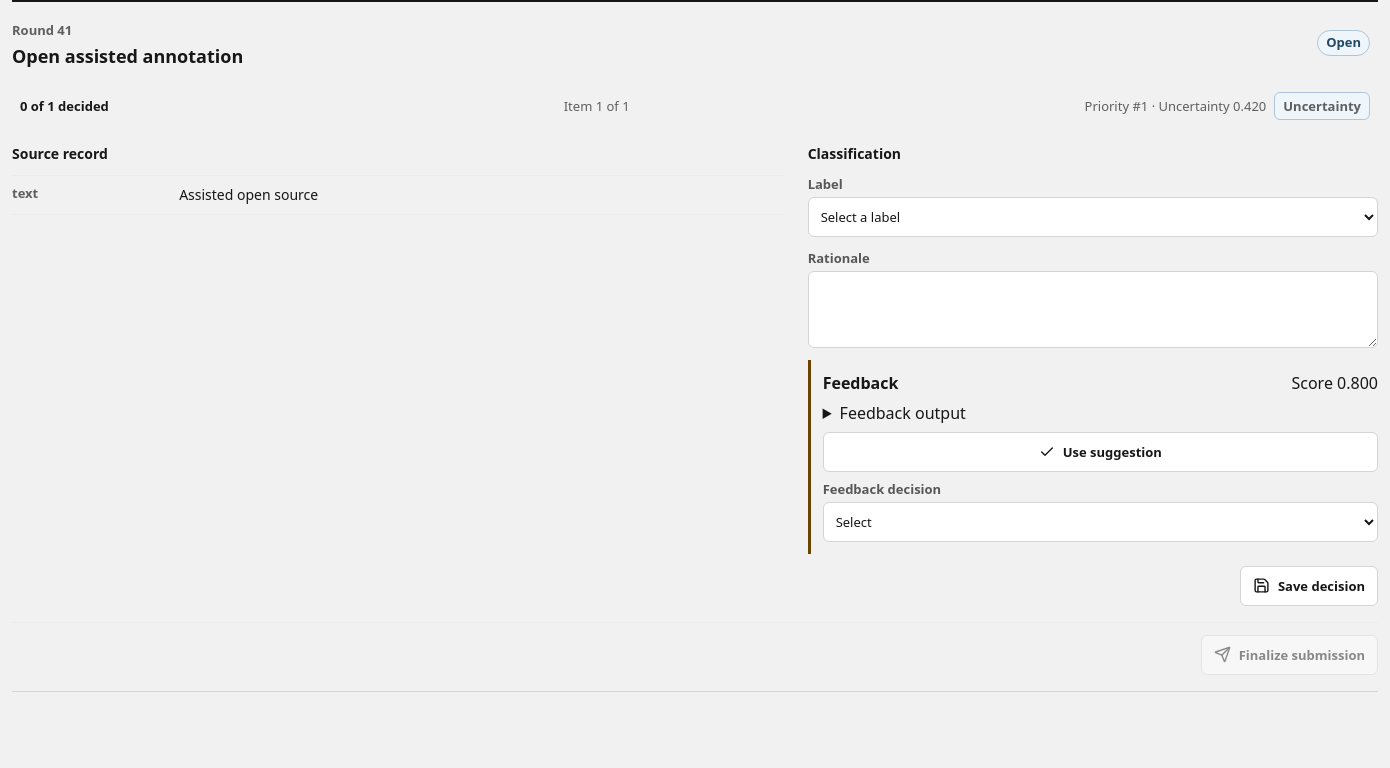
RoundWorkbench › retains feedback disposition checks for open assisted annotation
This screenshot has width=1390, height=768.
Expected: the element named "Revealed feedback" is shown, [808,360,1378,554]
Select "Relevant" in the dropdown labelled "Label" at {"x": 1093, "y": 217}, box [808,197,1378,237]
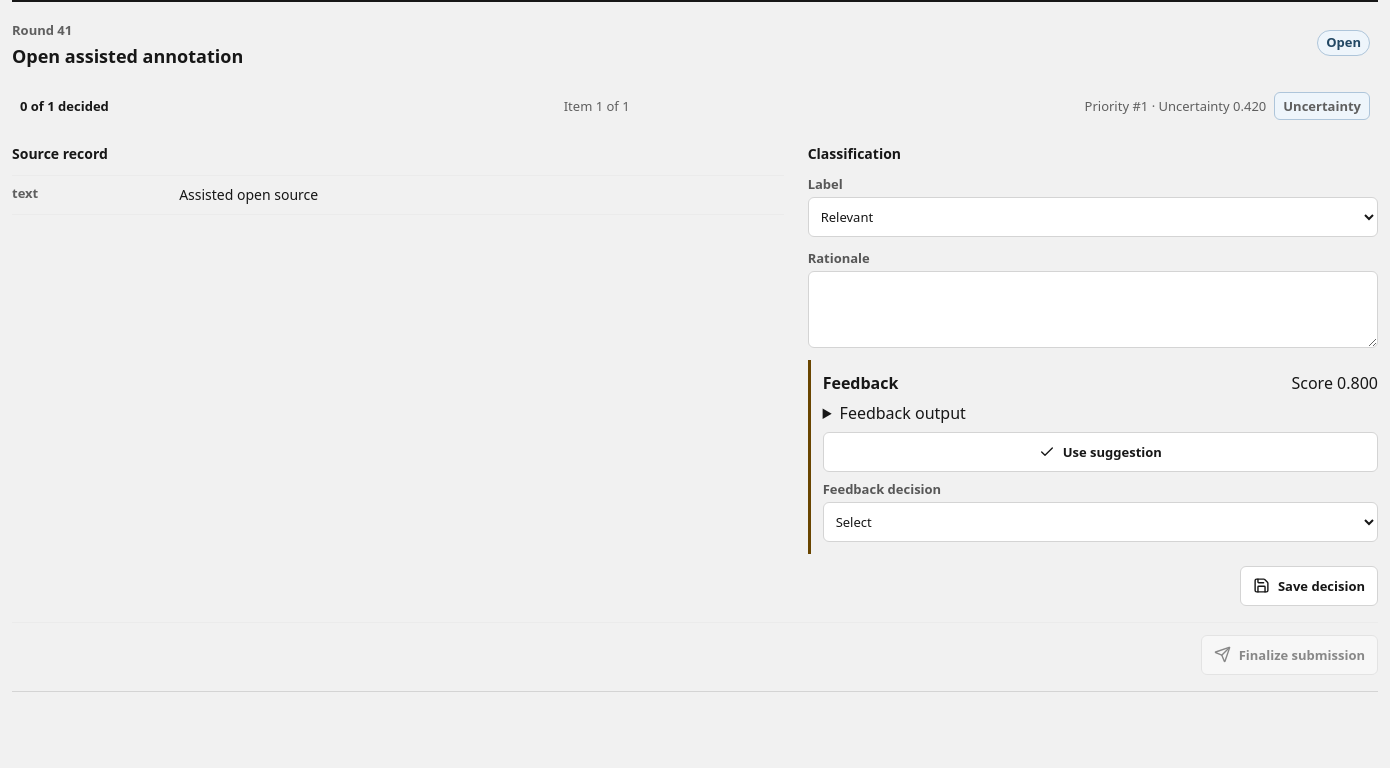
Click the button "Save decision" at {"x": 1309, "y": 586}, box [1240,566,1378,606]
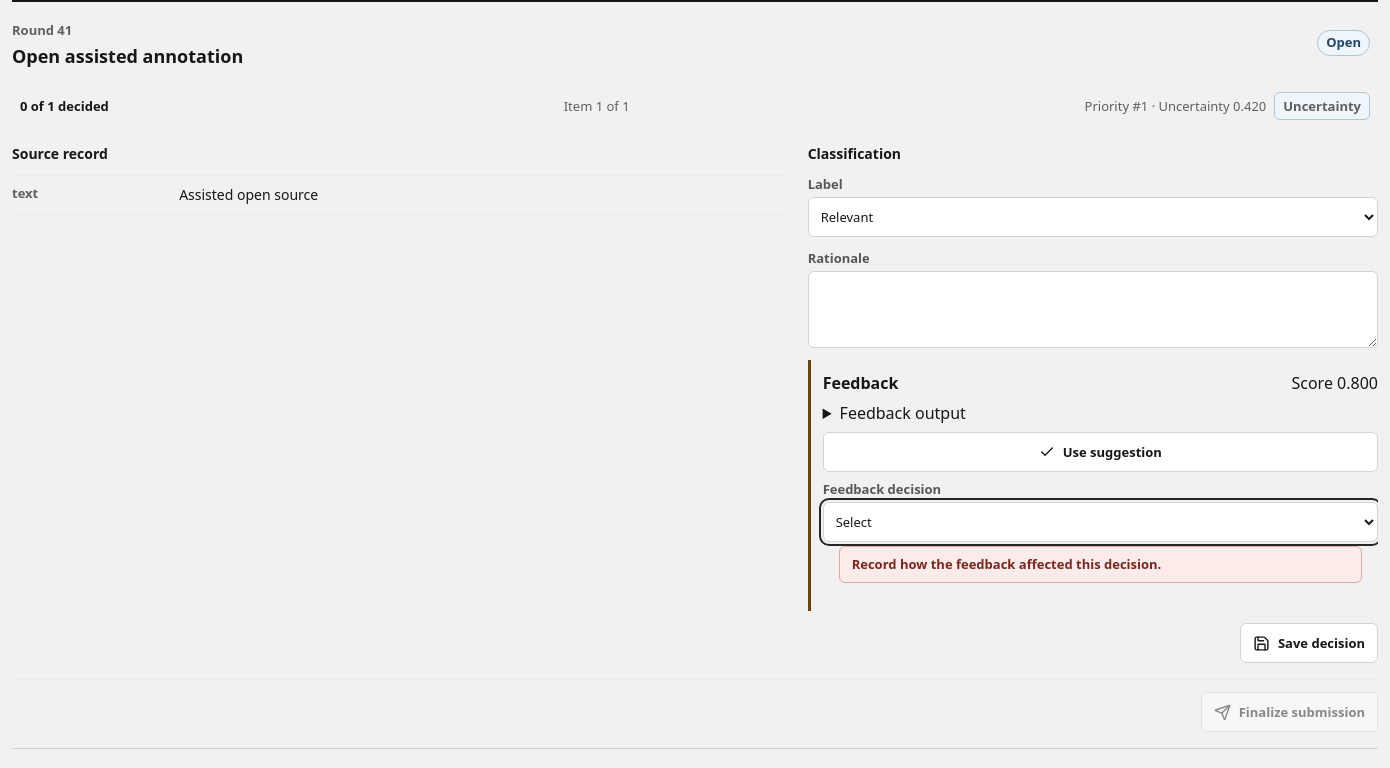
Now the message reads "Record how the feedback affected this decision.", box [852,554,1161,572]
Select "Accepted" in the dropdown labelled "Feedback decision" at {"x": 1100, "y": 522}, box [823,502,1378,542]
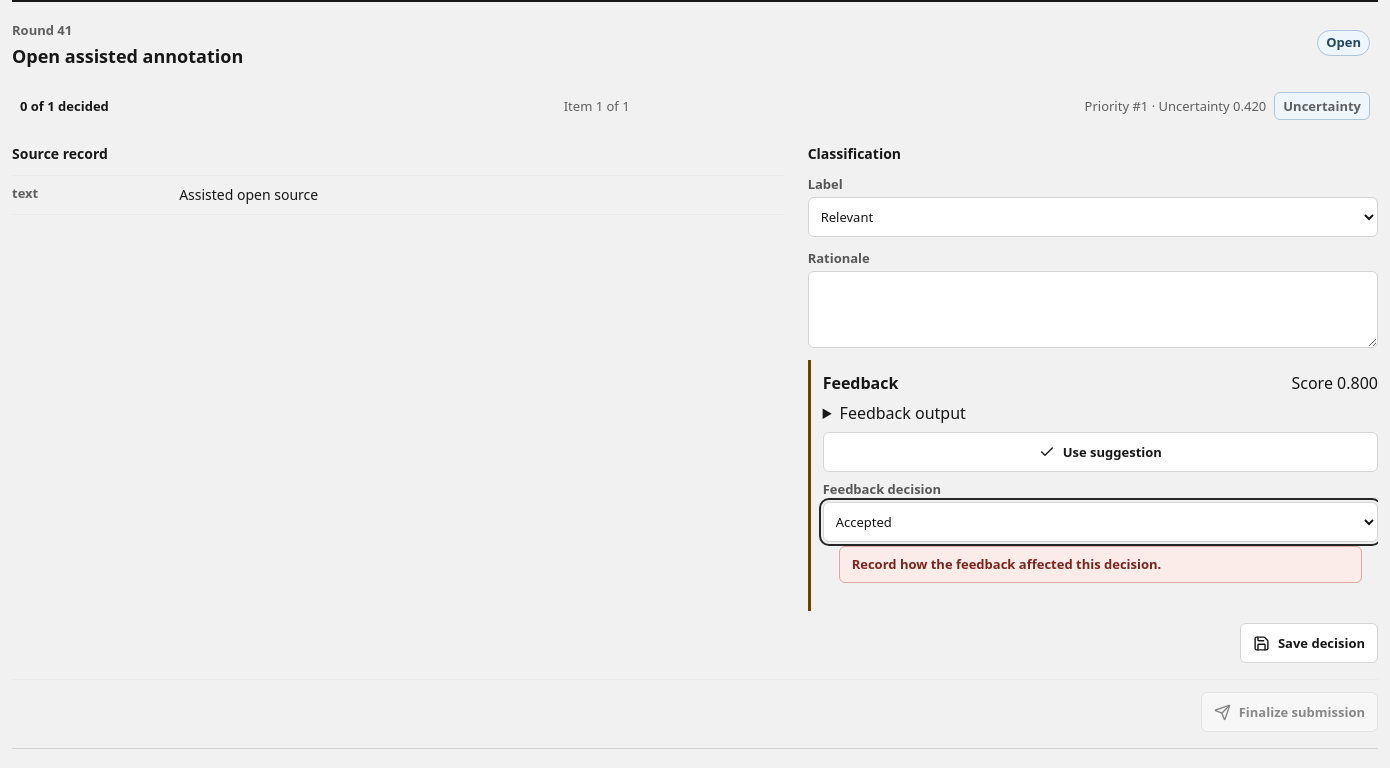
Click the button "Save decision" at {"x": 1309, "y": 643}, box [1240,623,1378,663]
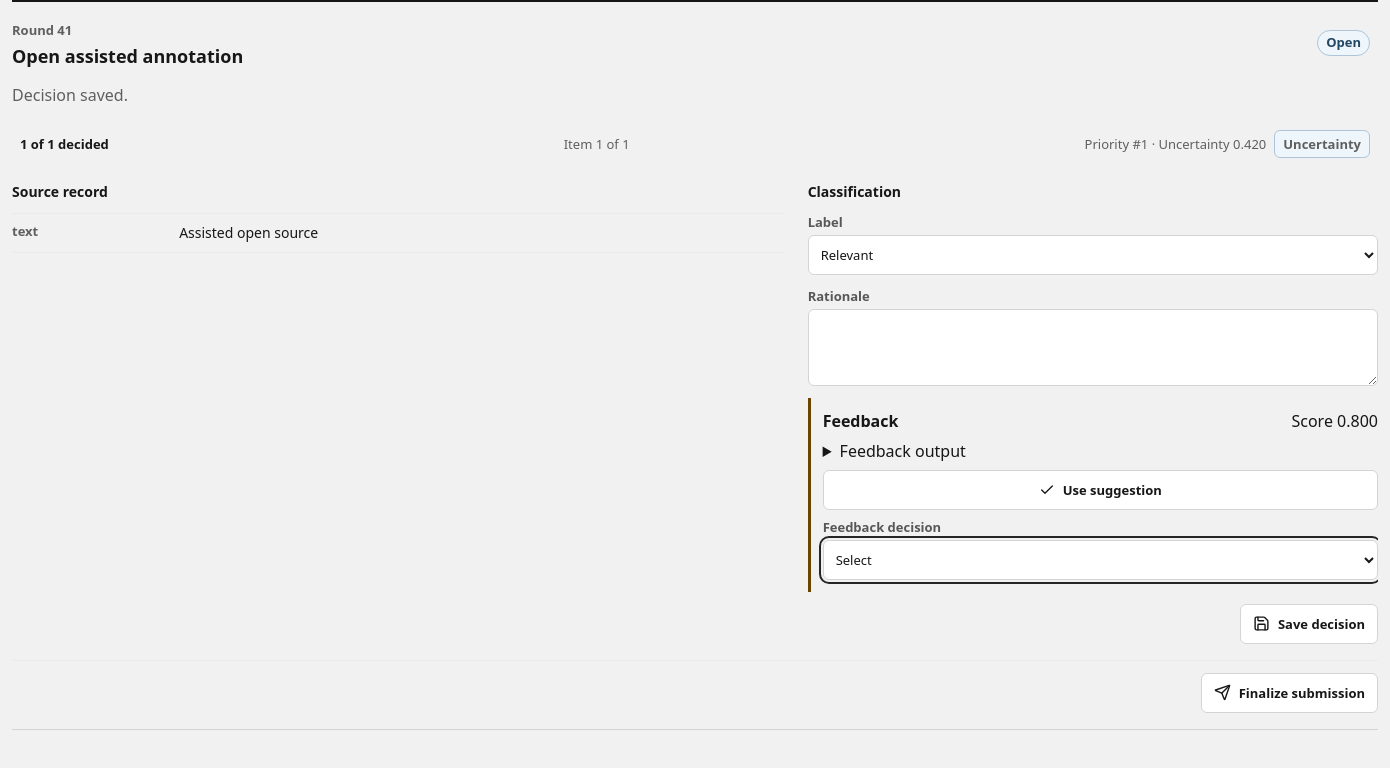
Now the text "Decision saved." is shown, box [12,84,128,106]
